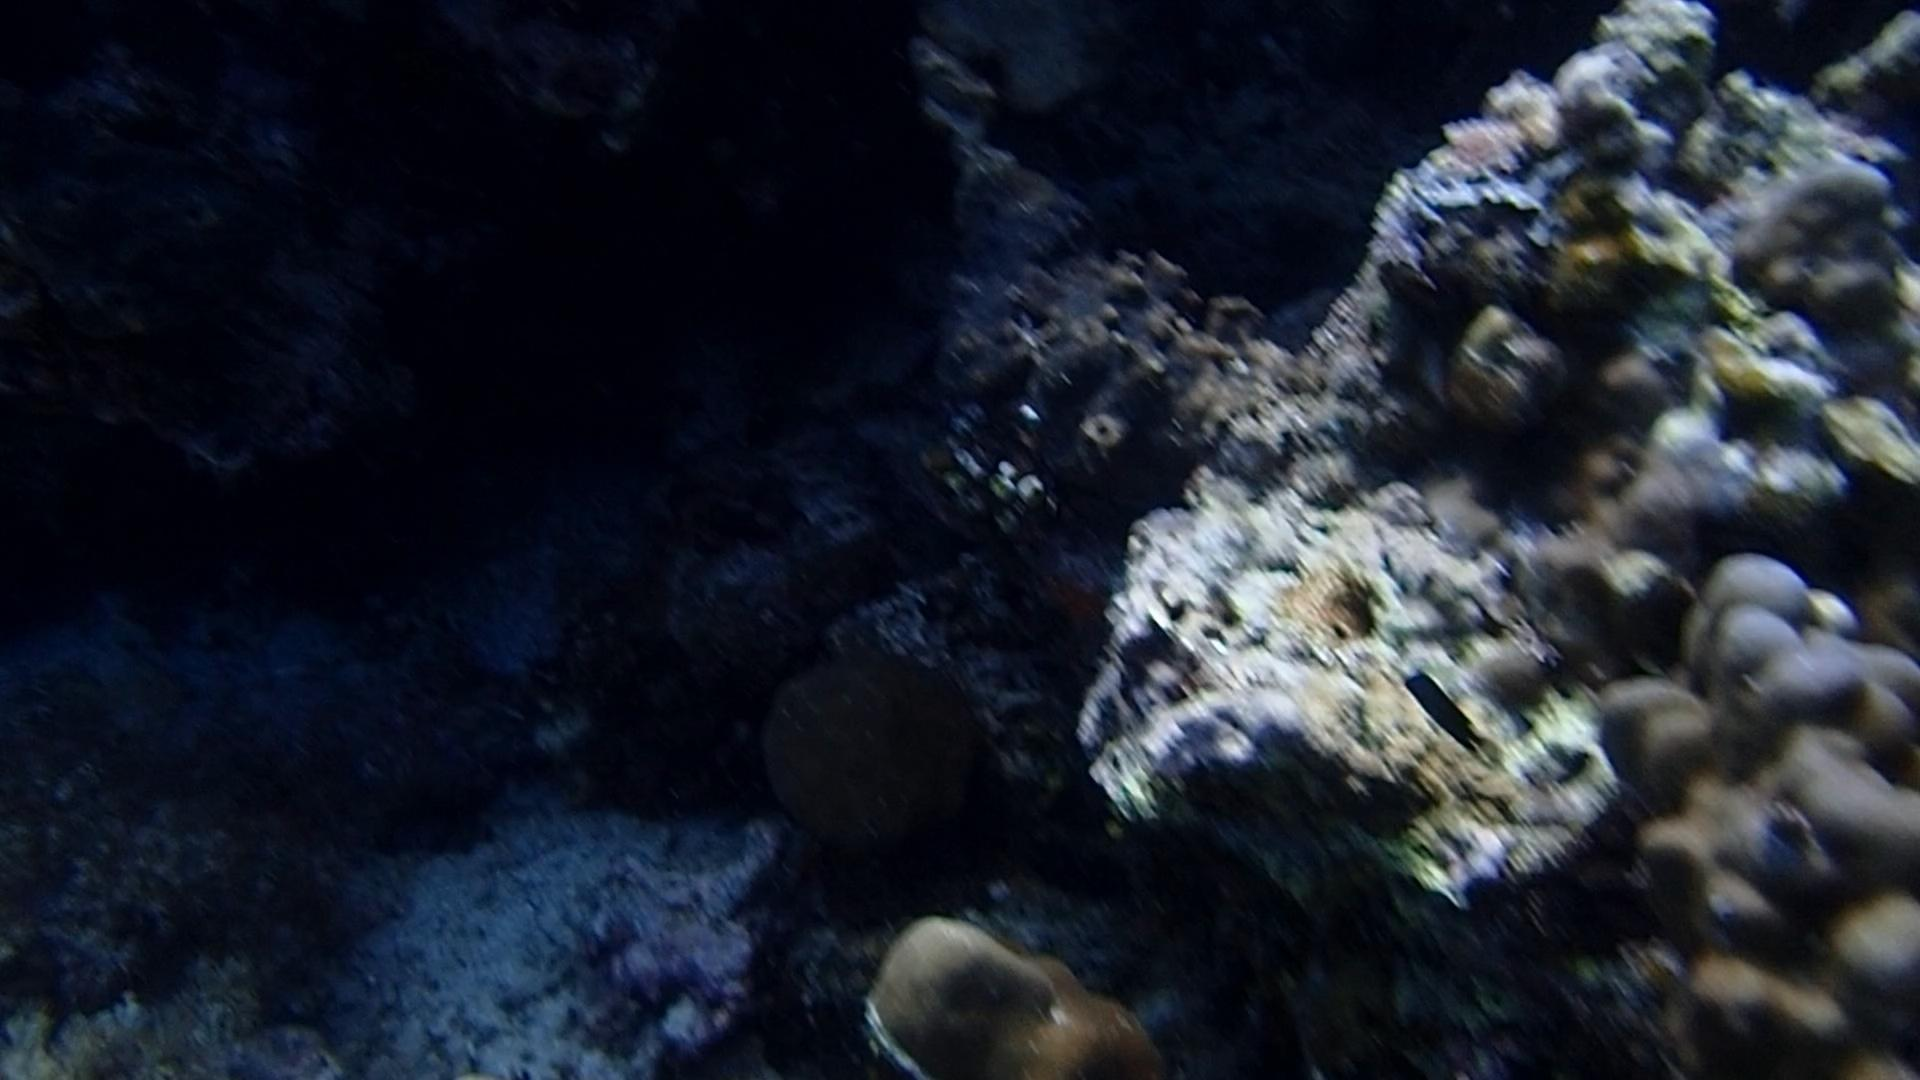Dark Fish: (1393, 658, 1509, 761)
